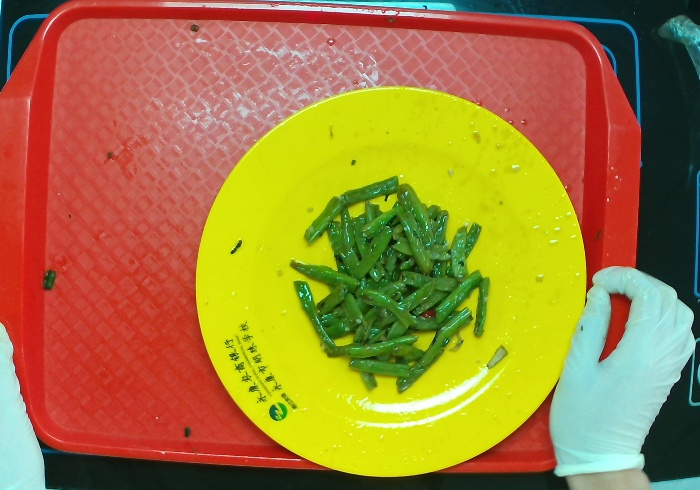YKMZ-Huang_Se_Mian_Pan: (193, 84, 590, 479)
